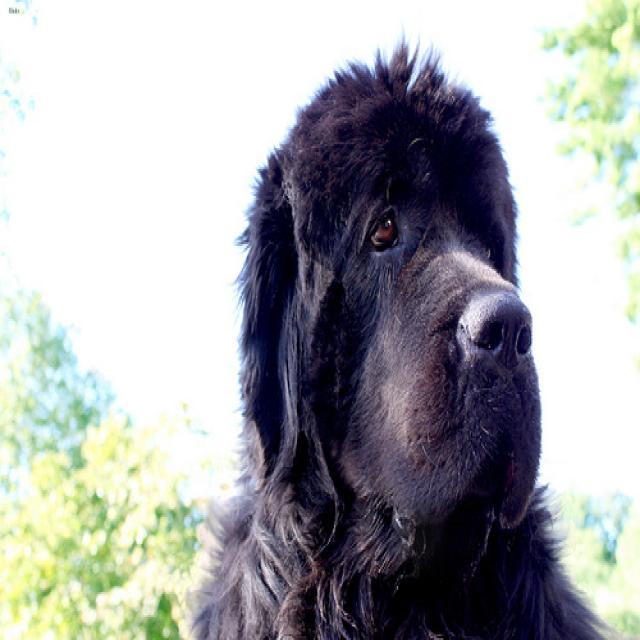dog-newfoundland: (172, 17, 627, 636)
